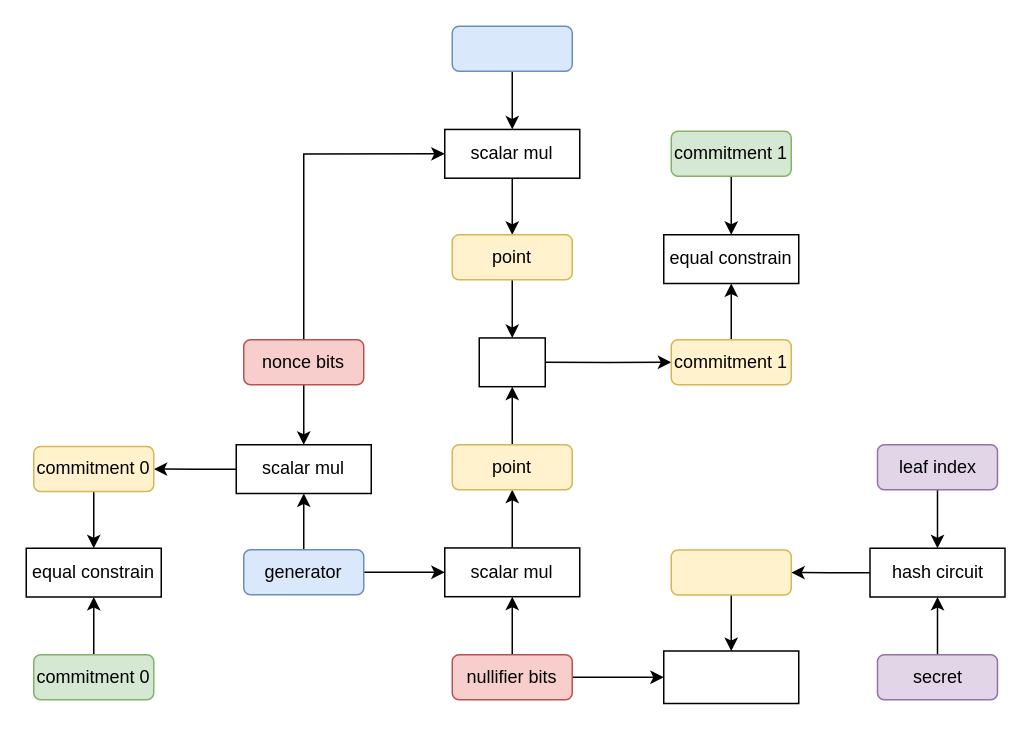
Image size: 1032x731. Some labels were removed from this diagram. Here are the shapes that lost their labels. From the top down, the centre of each, then its label:
the point at 511,48: public key
the point at 511,361: add
the point at 730,572: nullifier
the point at 730,677: bits constrain
